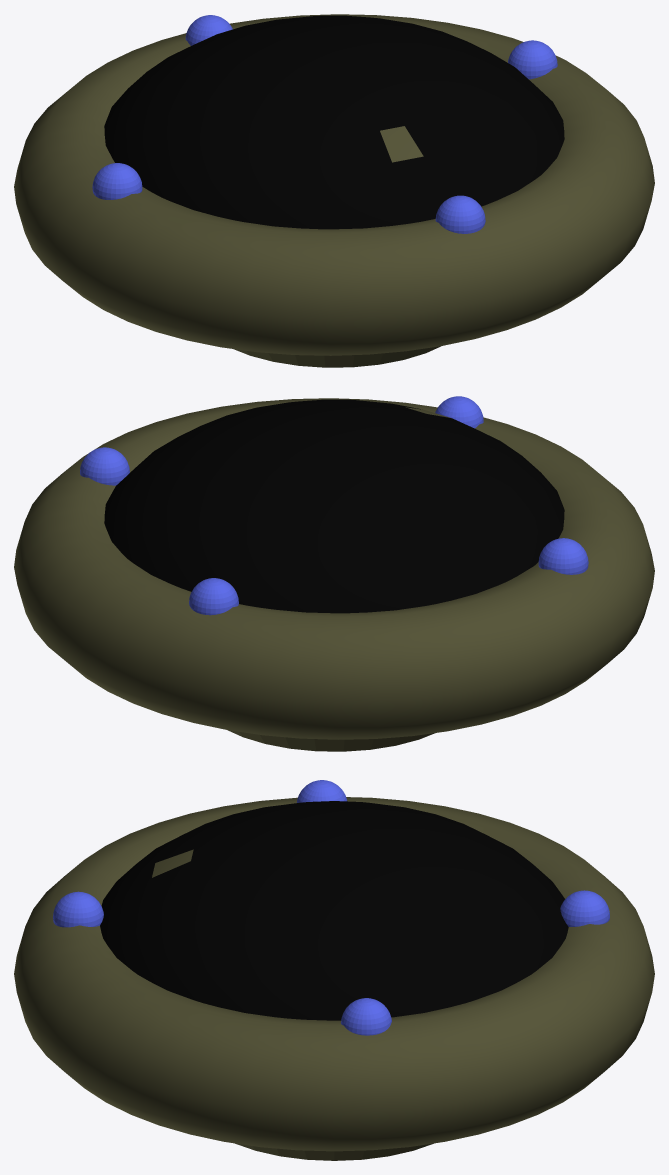
The model's file is 外星飞船 2.glb.
3 renders of one model, top to bottom at view 1: azimuth 30°, elevation 25°; view 2: azimuth 150°, elevation 25°; view 3: azimuth 270°, elevation 25°, orthographic. The views are drawn at different scales.
Visible parts, largest first — view 1: 环体, 球体, 柱体, 球体.003, 球体.004, 球体.002, 球体.001; view 2: 环体, 球体, 柱体, 球体.004, 球体.001, 球体.002, 球体.003; view 3: 环体, 球体, 球体.003, 球体.002, 柱体, 球体.001, 球体.004.
Part boxes in pixels (left/top/right/bottom): 环体: left=14, top=14, right=654, bottom=355; 球体: left=104, top=15, right=564, bottom=229; 柱体: left=233, top=346, right=440, bottom=367; 球体.003: left=435, top=195, right=485, bottom=233; 球体.004: left=92, top=163, right=142, bottom=199; 球体.002: left=508, top=40, right=557, bottom=79; 球体.001: left=185, top=15, right=232, bottom=45; 环体: left=14, top=398, right=654, bottom=739; 球体: left=104, top=399, right=564, bottom=613; 柱体: left=227, top=730, right=435, bottom=751; 球体.004: left=538, top=538, right=588, bottom=574; 球体.001: left=189, top=578, right=238, bottom=615; 球体.002: left=80, top=447, right=129, bottom=485; 球体.003: left=435, top=396, right=483, bottom=428; 环体: left=14, top=797, right=654, bottom=1151; 球体: left=100, top=801, right=568, bottom=1020; 球体.003: left=53, top=891, right=103, bottom=927; 球体.002: left=341, top=998, right=391, bottom=1035; 柱体: left=235, top=1143, right=433, bottom=1160; 球体.001: left=560, top=890, right=609, bottom=926; 球体.004: left=297, top=780, right=346, bottom=802.
Size of the model in its own units: 2.57 by 1.13 by 2.5.
